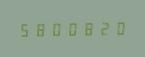eight: (33, 20, 48, 37), (81, 19, 96, 36)
five: (17, 20, 32, 37)
two: (97, 19, 112, 36)
zero: (49, 20, 64, 37), (113, 19, 128, 36), (65, 20, 80, 36)
